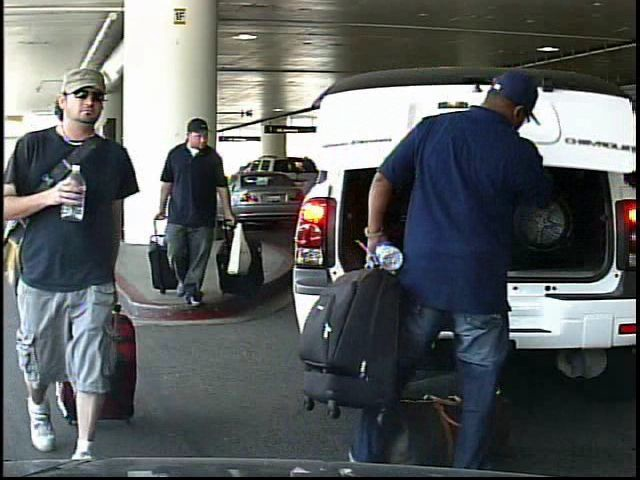person: (355, 74, 541, 476), (6, 63, 166, 479), (155, 114, 254, 312)
